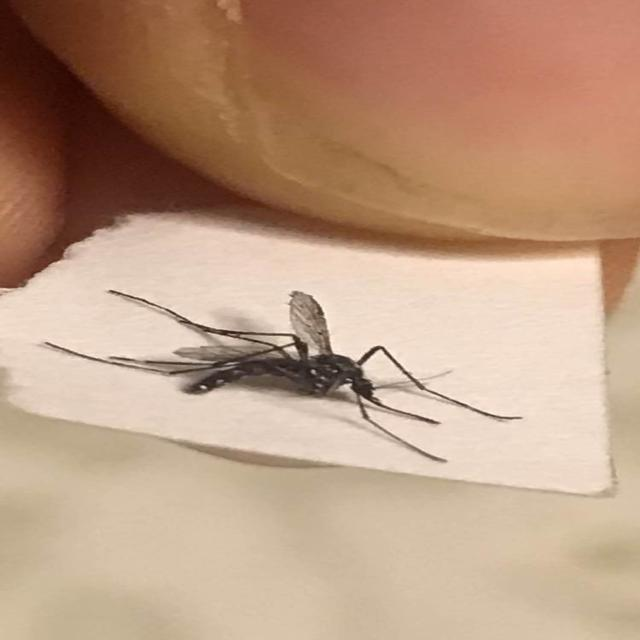albopictus: (48, 273, 515, 461)
